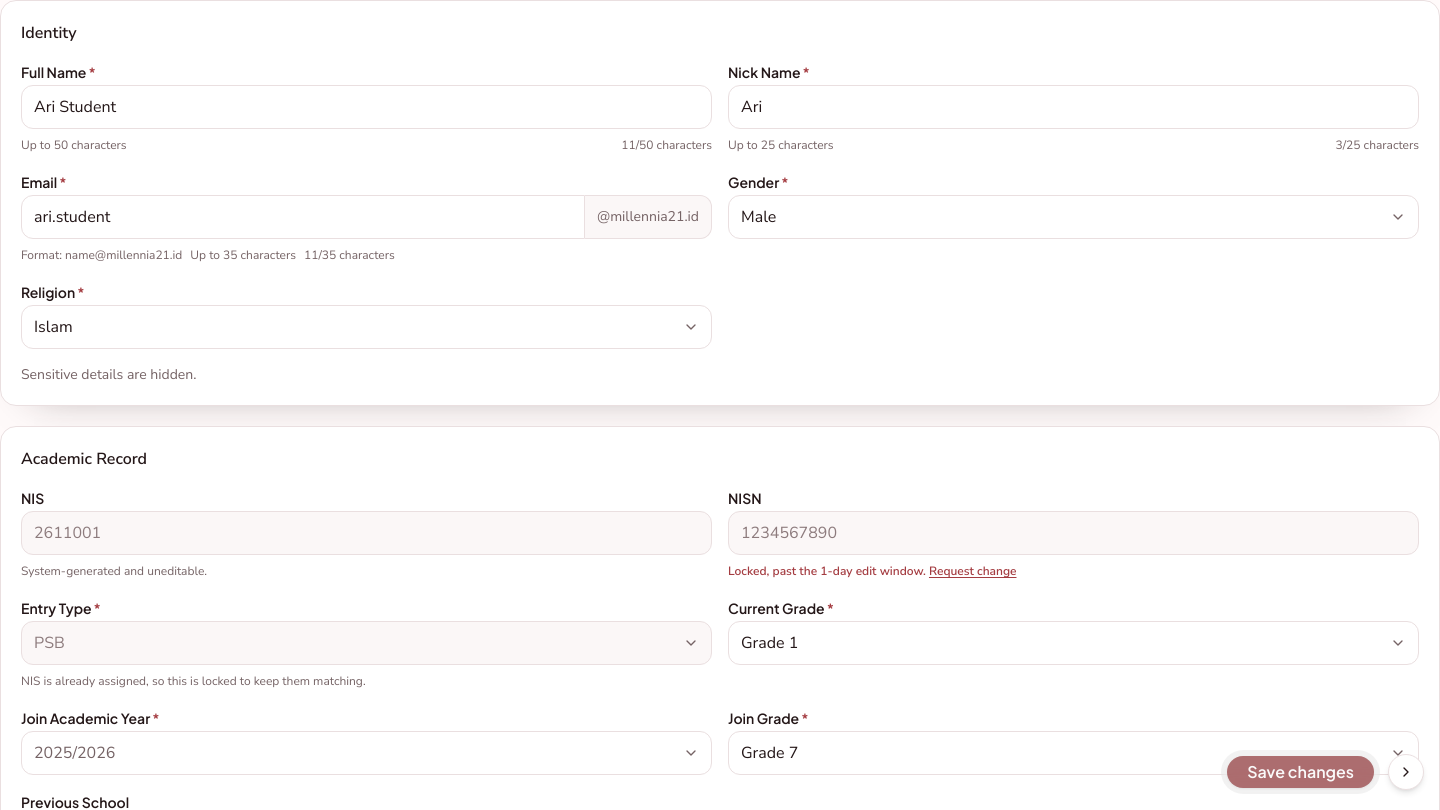
StudentForm › limits current grades to the database admin unit while keeping join grades broad
The width and height of the screenshot is (1440, 810).
Click the button "Grade 1": point(770, 643) [728,621,1419,665]
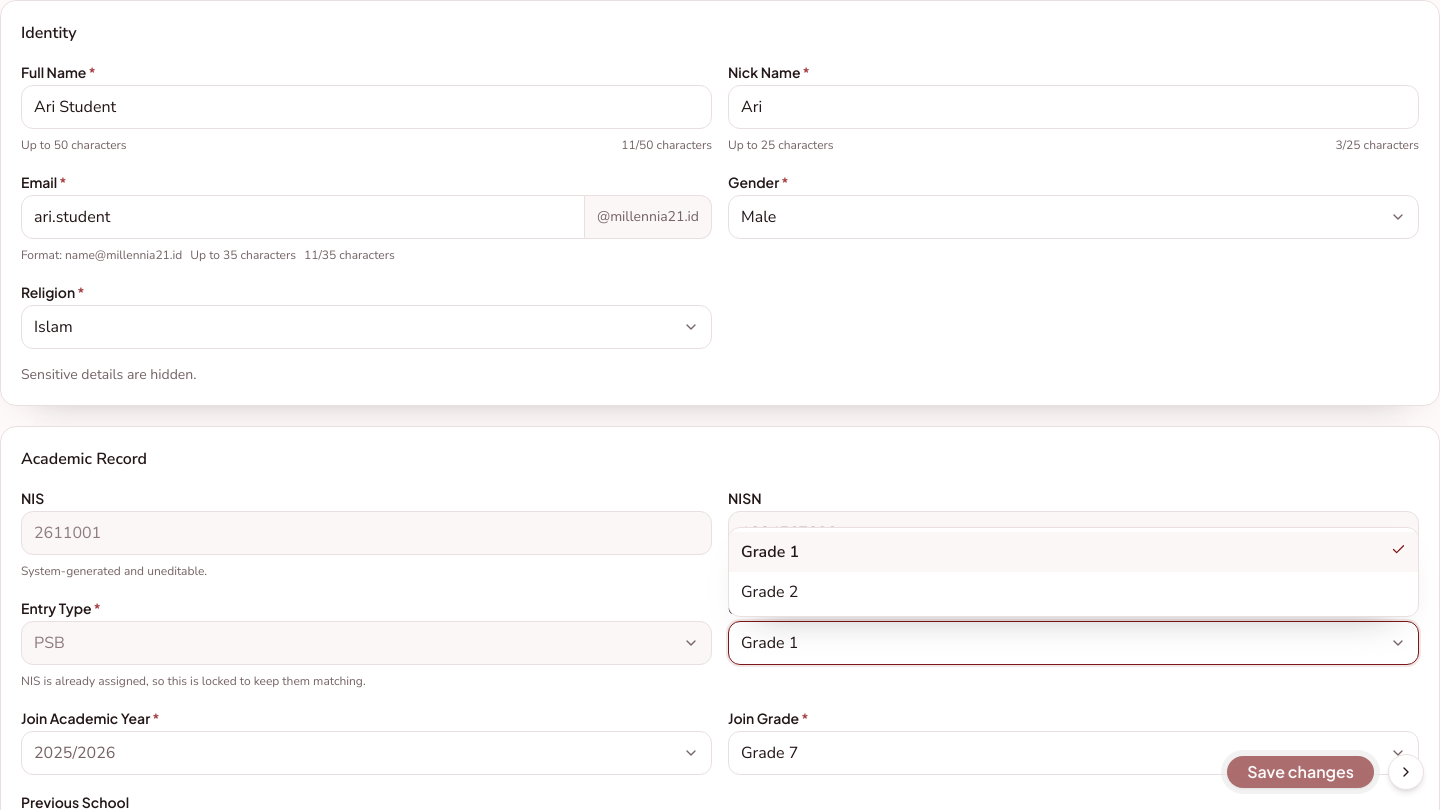
Expected: the option "Grade 2" is shown, [729,572,1418,612]
Press Escape
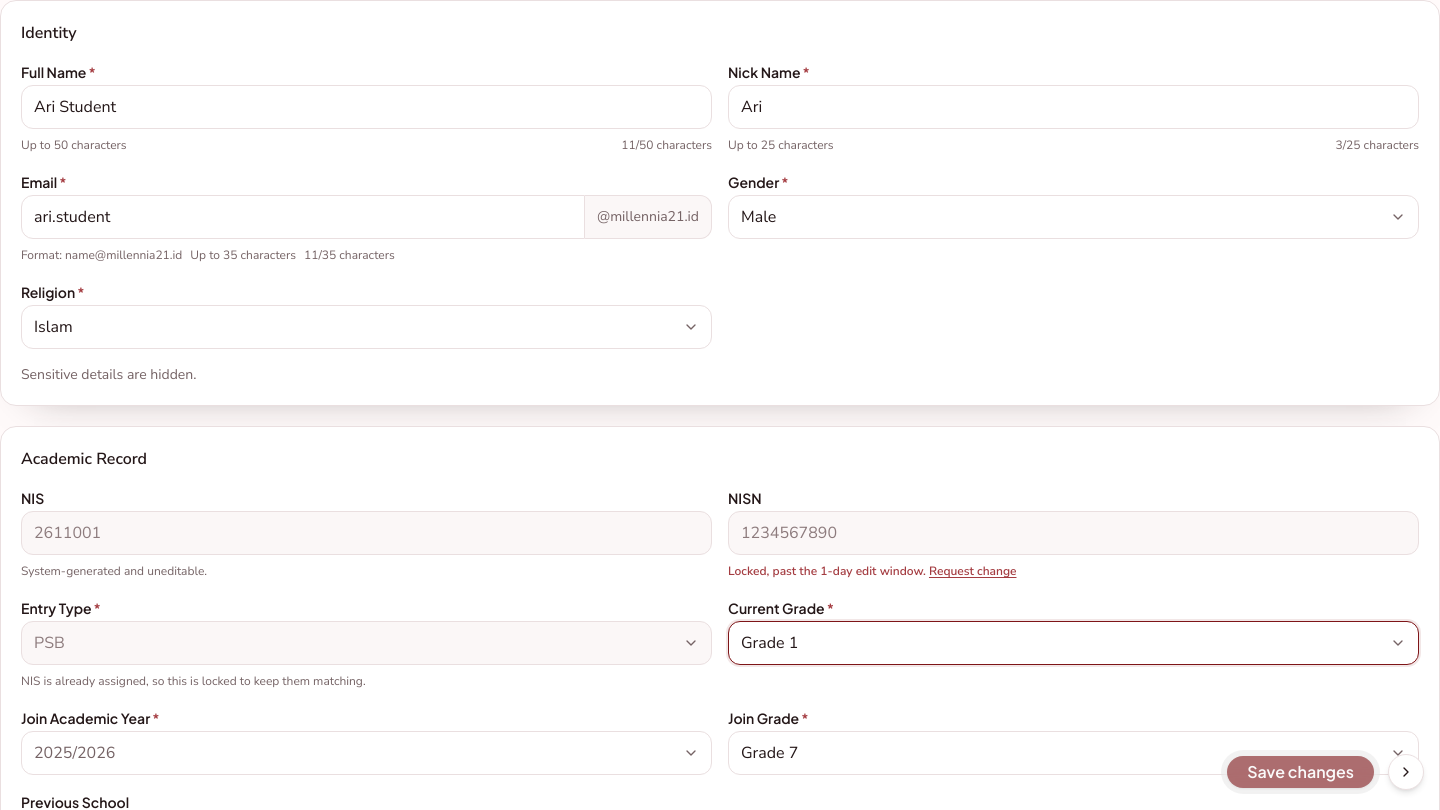
Click the button "Grade 7": point(770, 753) [728,731,1419,775]
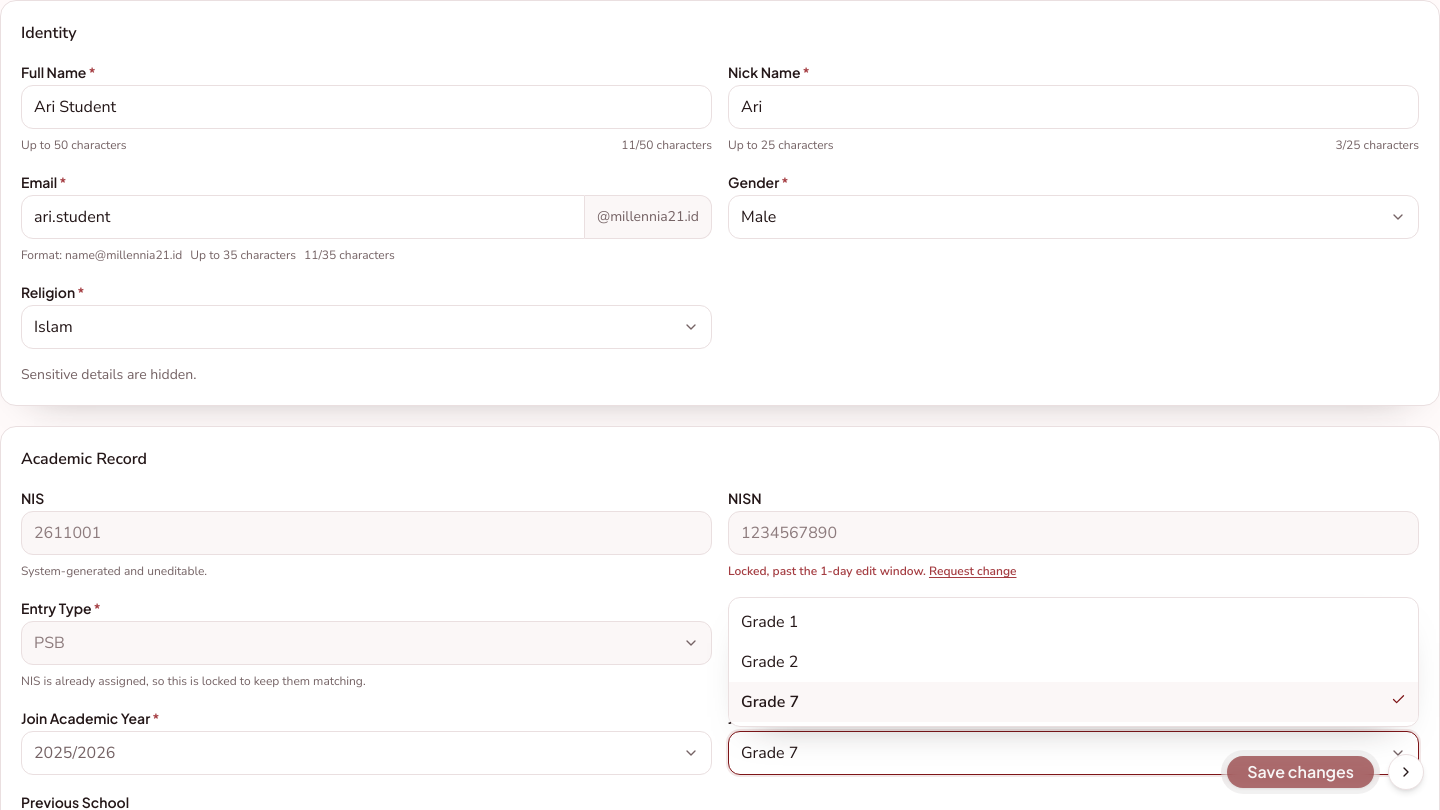
Expected: the option "Grade 7" is shown, [729,682,1418,722]
